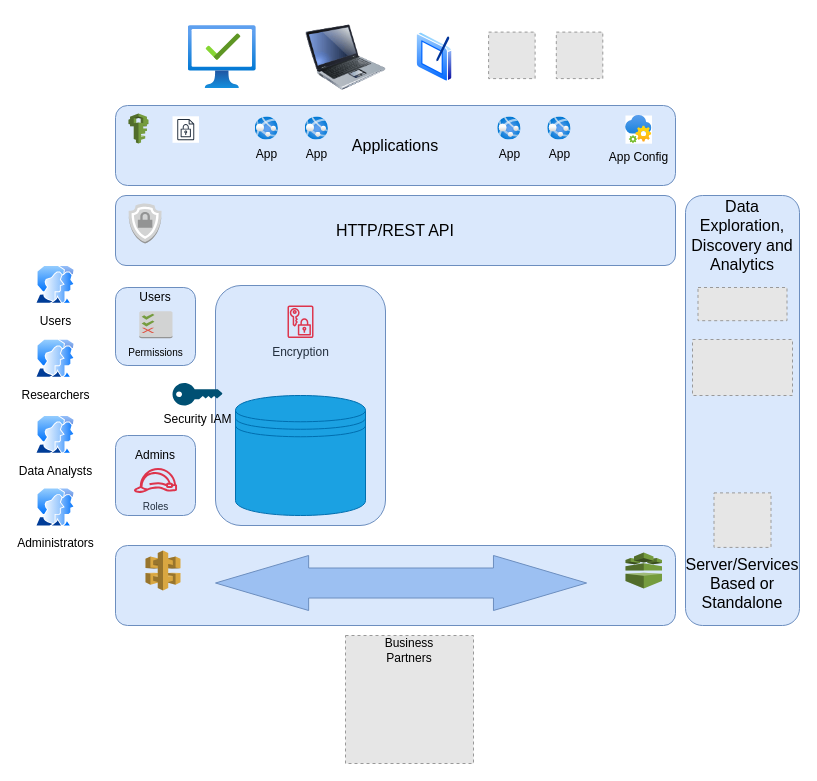
The diagram is 817 pixels wide and 781 high, and some of its shapes have lost their labels. Grey dashed boxes stand in for pictures. The centre of each missing label's shape, as x and y in pixels:
"API Gateway" belongs at point (162, 570).
"Config" belongs at point (643, 570).
"Data Integration and APIs" belongs at point (400, 582).
"Encrypted data" belongs at point (185, 129).
"IAM" belongs at point (138, 128).
"Memorial Matrix Database" belongs at point (300, 455).
"SSL/TLS" belongs at point (145, 223).
